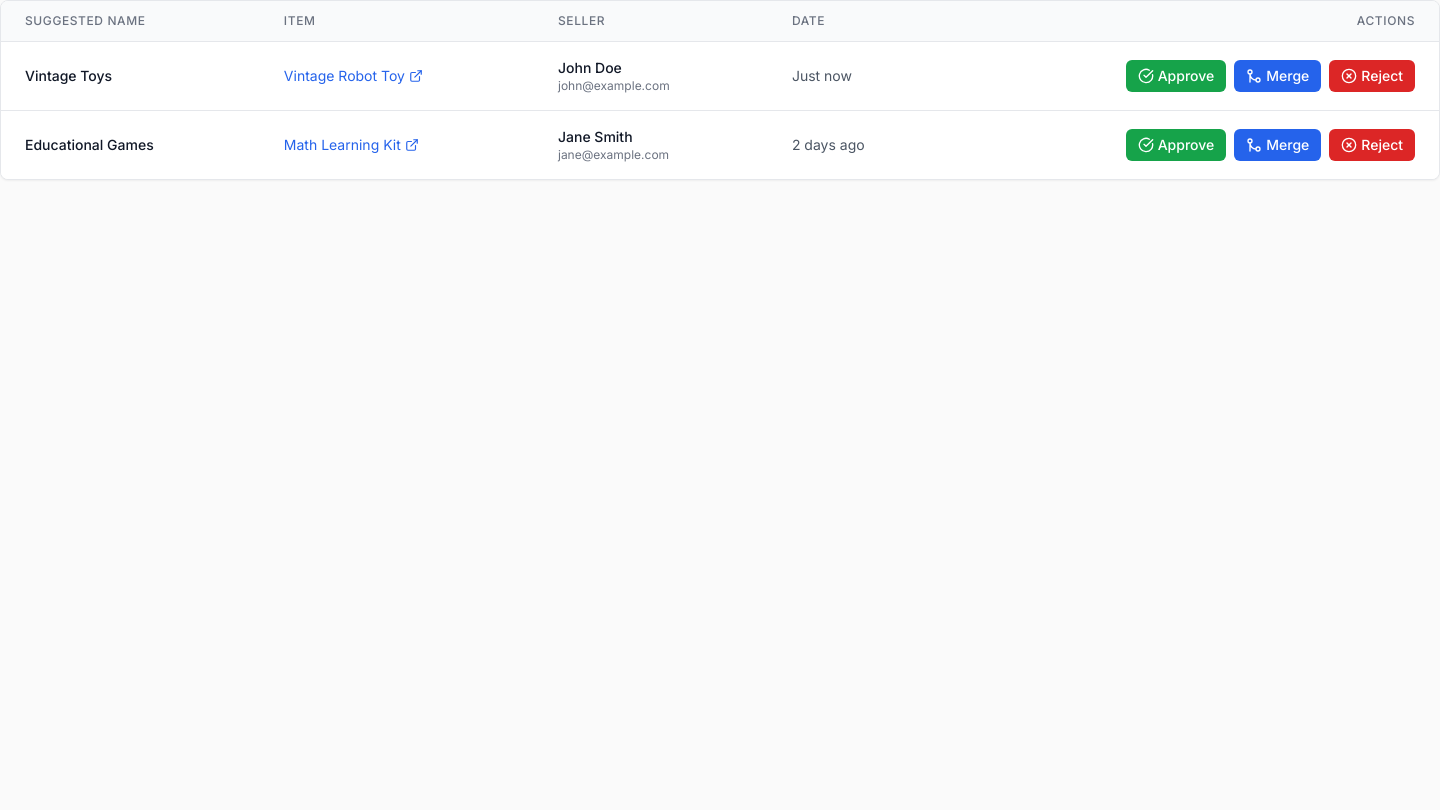
CategorySuggestionsList › Modal Interactions › opens reject modal when reject button clicked
This screenshot has width=1440, height=810.
Click the button with test id "reject-btn-sug-001". click: (1372, 76)
box: x1=1329 y1=60 x2=1415 y2=92
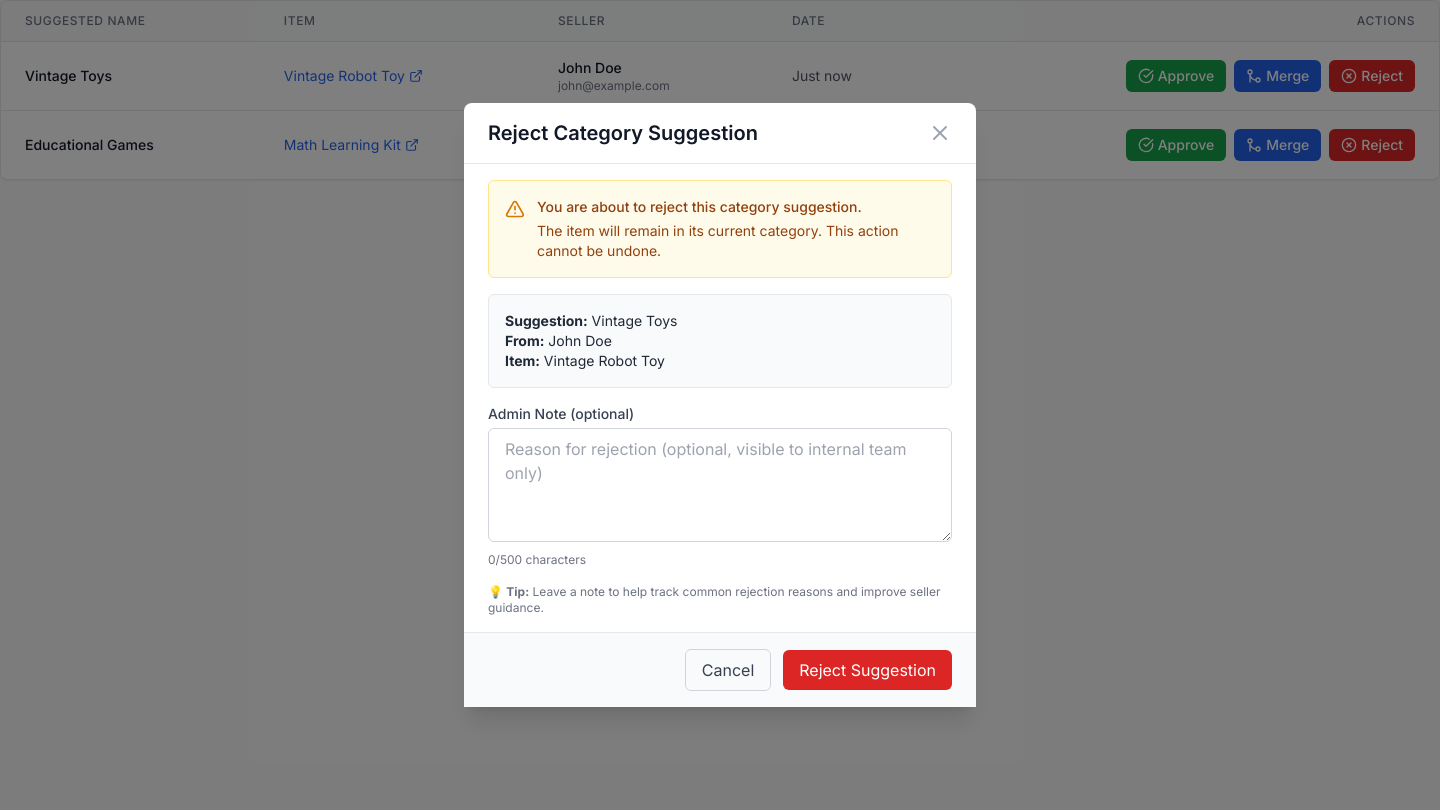
Result: the heading "Reject Category Suggestion" is shown at x1=488 y1=119 x2=758 y2=147
